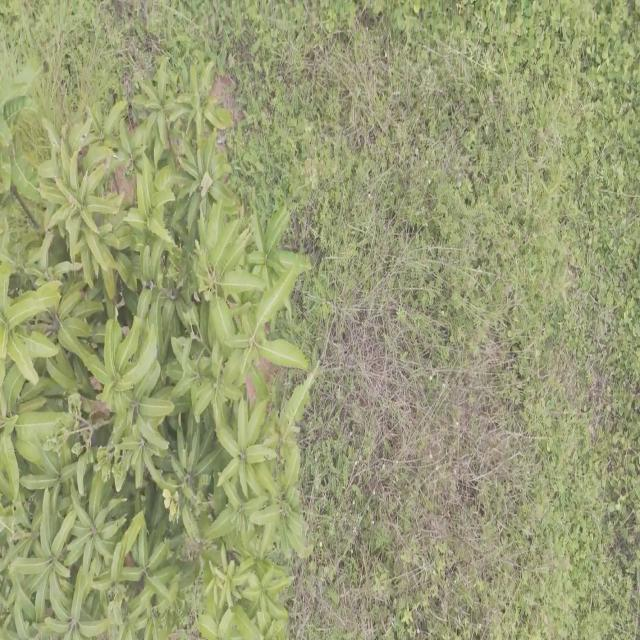mangoTree: (0, 45, 311, 640)
